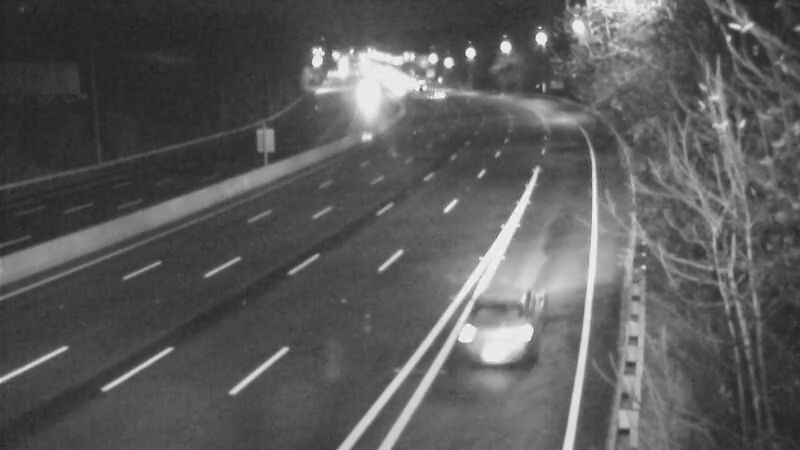vehicle: (446, 285, 556, 395), (414, 72, 464, 122)
